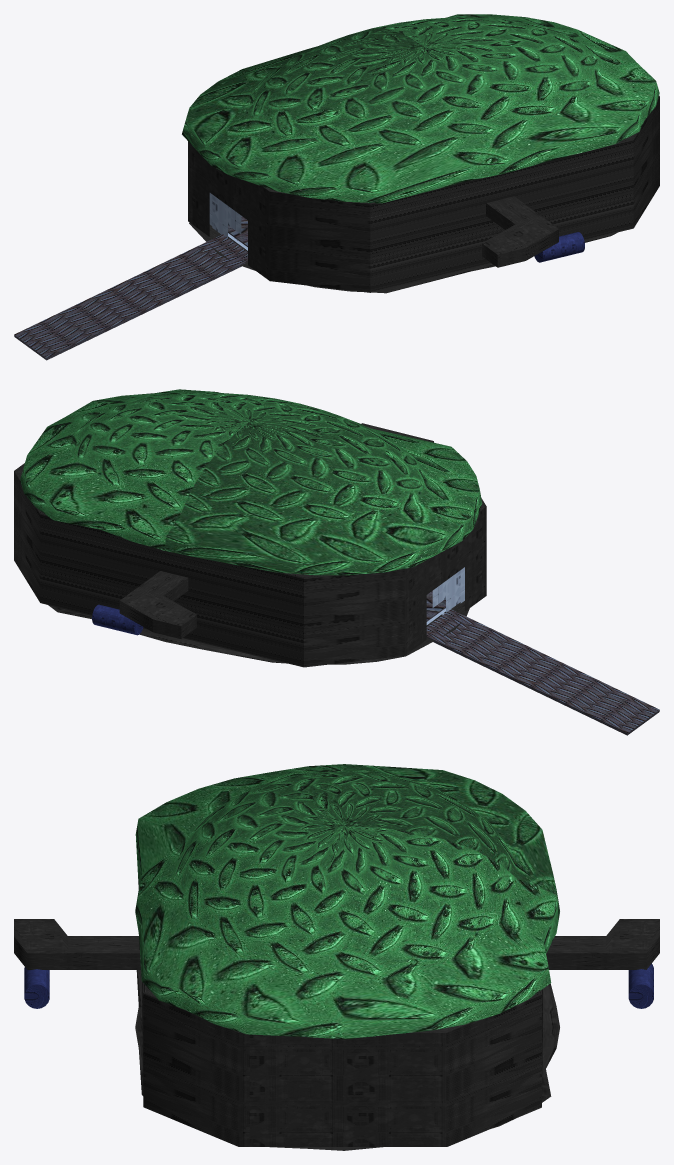
Rendered from spaceship.fbx.
3 renders of one model, top to bottom at view 1: azimuth 30°, elevation 25°; view 2: azimuth 150°, elevation 25°; view 3: azimuth 270°, elevation 25°, orthographic. The views are drawn at different scales.
Parts seen in each view (by area): view 1: ceiling, left_front_wall_outside, left_back_wall_outside, entrance, right_front_wall_outside, engine_wall_left, left_front_wall_inside, ship_floor, engine_left; view 2: ceiling, right_front_wall_outside, right_back_wall_outside, entrance, engine_wall_right, left_front_wall_outside, ship_floor, engine_right, right_front_wall_inside; view 3: ceiling, right_back_wall_outside, left_back_wall_outside, engine_wall_left, engine_wall_right, ship_floor, engine_right, engine_left.
Part boxes in pixels (x1,y1,x2,y2): ceiling: (182,14,659,203); left_front_wall_outside: (192,146,503,292); left_back_wall_outside: (503,96,659,240); entrance: (14,234,247,360); right_front_wall_outside: (188,141,266,277); engine_wall_left: (482,196,558,267); left_front_wall_inside: (212,194,247,248); ship_floor: (189,222,617,293); engine_left: (534,232,584,262); ceiling: (20,389,482,575); right_front_wall_outside: (171,510,481,667); right_back_wall_outside: (14,463,171,629); entrance: (426,609,659,735); engine_wall_right: (119,571,196,638); left_front_wall_outside: (409,498,486,651); ship_floor: (48,605,469,664); engine_right: (92,604,143,635); right_front_wall_inside: (427,570,460,624); ceiling: (135,764,559,1039); right_back_wall_outside: (249,989,542,1146); left_back_wall_outside: (142,982,435,1146); engine_wall_left: (14,919,140,969); engine_wall_right: (546,919,659,969); ship_floor: (135,970,559,1150); engine_right: (628,963,653,1008); engine_left: (24,967,49,1008).
Size of the model in its own units: 501 by 164 by 366.
